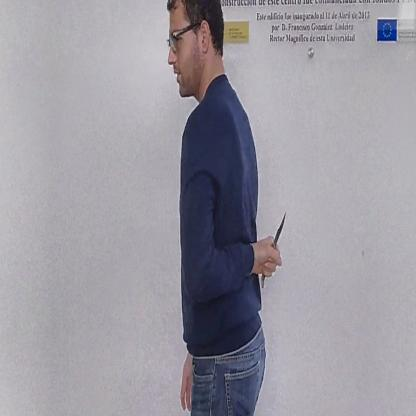knife: (258, 203, 289, 294)
